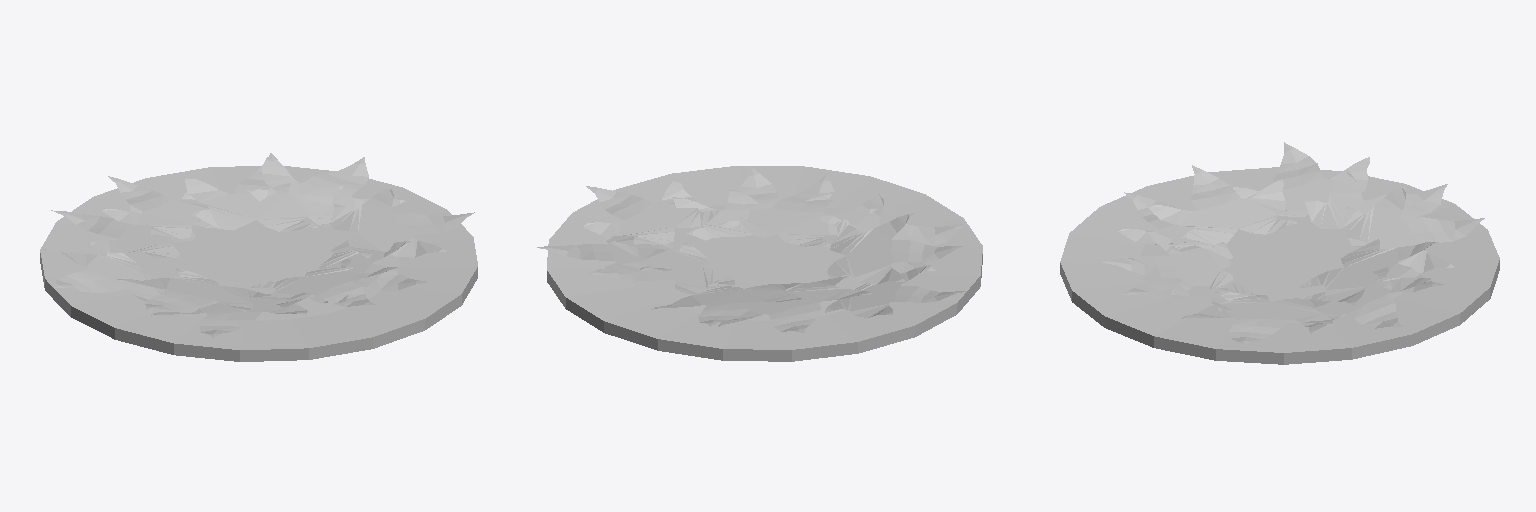
File: BigPlate_Banquet_geo.obj
The picture shows the model from 3 angles: view 1: azimuth 30°, elevation 25°; view 2: azimuth 150°, elevation 25°; view 3: azimuth 270°, elevation 25°; orthographic projection.
Visible parts, largest first — view 1: REDO:Platter; view 2: REDO:Platter; view 3: REDO:Platter.
Boxes of the visible parts, box(x1,y1,x2,y2) form: REDO:Platter: box(40, 153, 477, 361); REDO:Platter: box(537, 166, 982, 361); REDO:Platter: box(1060, 142, 1499, 364).
Size of the model in its own units: 12.03 by 1.36 by 11.38.